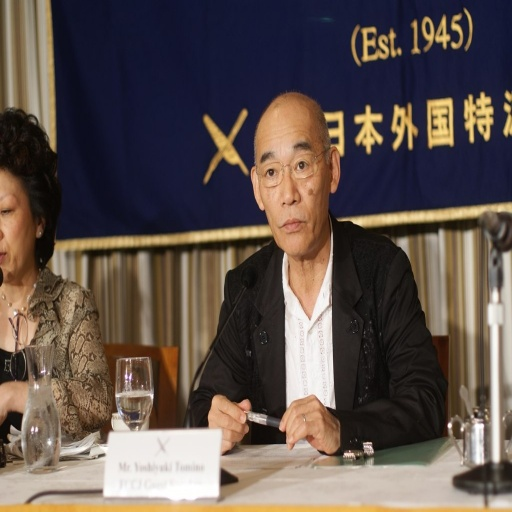hand: (279, 391, 339, 452), (198, 384, 253, 447), (0, 382, 11, 427)
